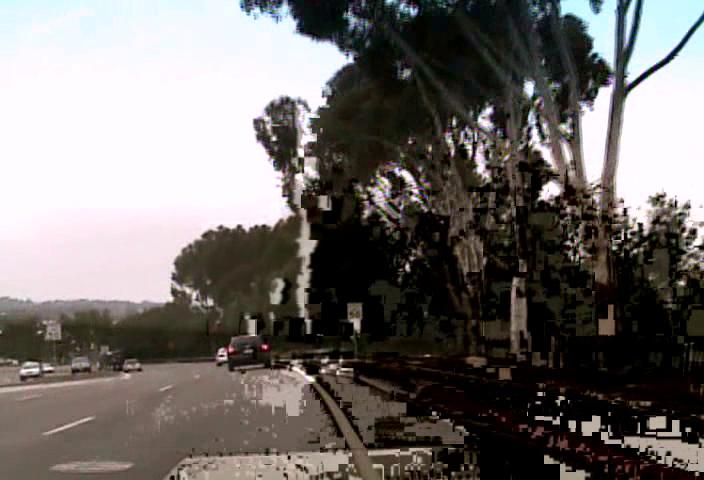speedLimitUrdbl: (44, 319, 61, 341)
